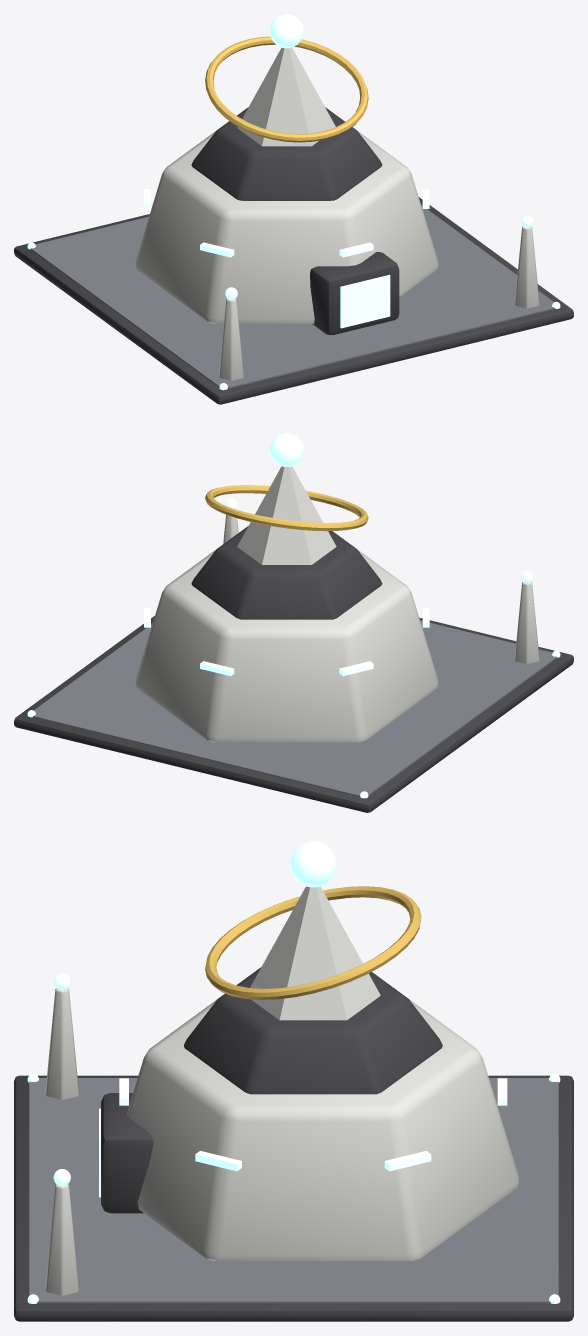
Rendered from cy_rob.glb.
3 views of the same model, one above another, from view 1: azimuth 30°, elevation 25°; view 2: azimuth 150°, elevation 25°; view 3: azimuth 270°, elevation 25° (orthographic). The views are drawn at different scales.
Visible parts, largest first — view 1: cy_rob, spin_m; view 2: cy_rob, spin_m; view 3: cy_rob, spin_m.
Boxes of the visible parts, x1,y1,x2,y2 form: cy_rob: (14, 14, 573, 404); spin_m: (205, 36, 368, 142); cy_rob: (14, 433, 573, 812); spin_m: (205, 485, 368, 531); cy_rob: (14, 841, 573, 1321); spin_m: (205, 886, 421, 999).
Size of the model in its own units: 2.9 by 2.07 by 2.9.
